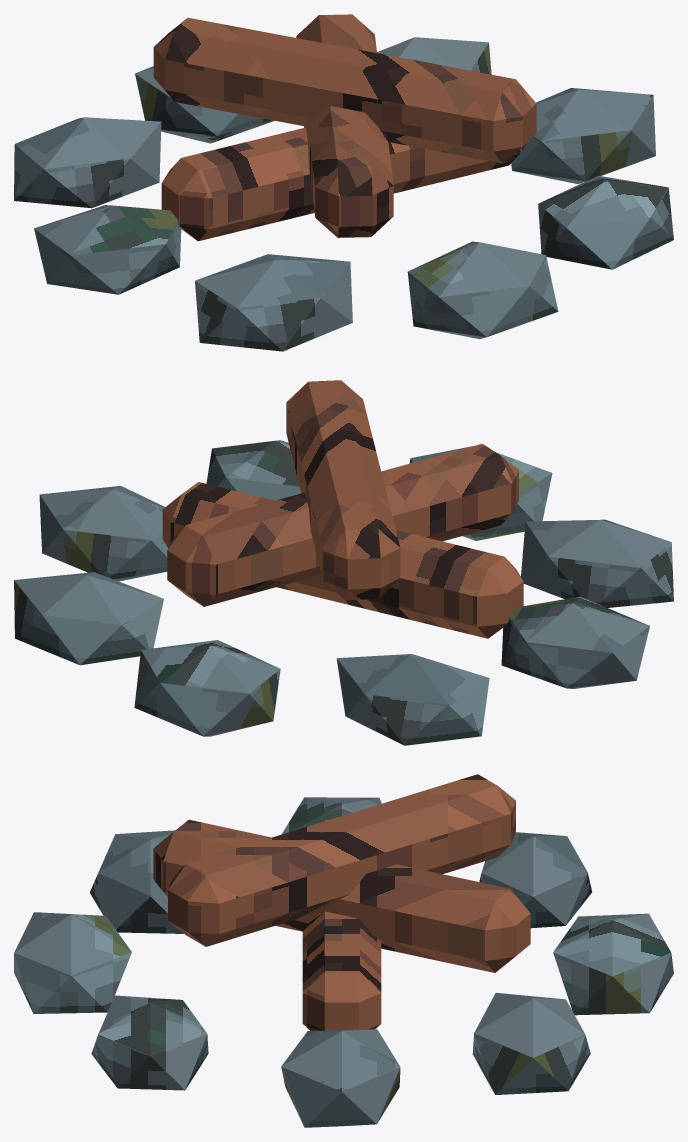
File: enfeite_fogueira.glb
The picture shows the model from 3 angles, top to bottom: view 1: azimuth 30°, elevation 25°; view 2: azimuth 150°, elevation 25°; view 3: azimuth 270°, elevation 25°; orthographic projection. The views are drawn at different scales.
Visible parts, largest first — view 1: bosque_enfeite_fogueira; view 2: bosque_enfeite_fogueira; view 3: bosque_enfeite_fogueira.
Boxes of the visible parts, x1,y1,x2,y2 form: bosque_enfeite_fogueira: (14,14,673,351); bosque_enfeite_fogueira: (14,380,673,745); bosque_enfeite_fogueira: (14,774,673,1127).
Size of the model in its own units: 0.624 by 0.1841 by 0.5853.
2 materials, 2 textured.
